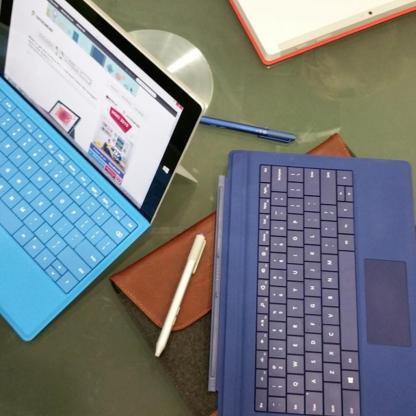board: (0, 0, 209, 342)
